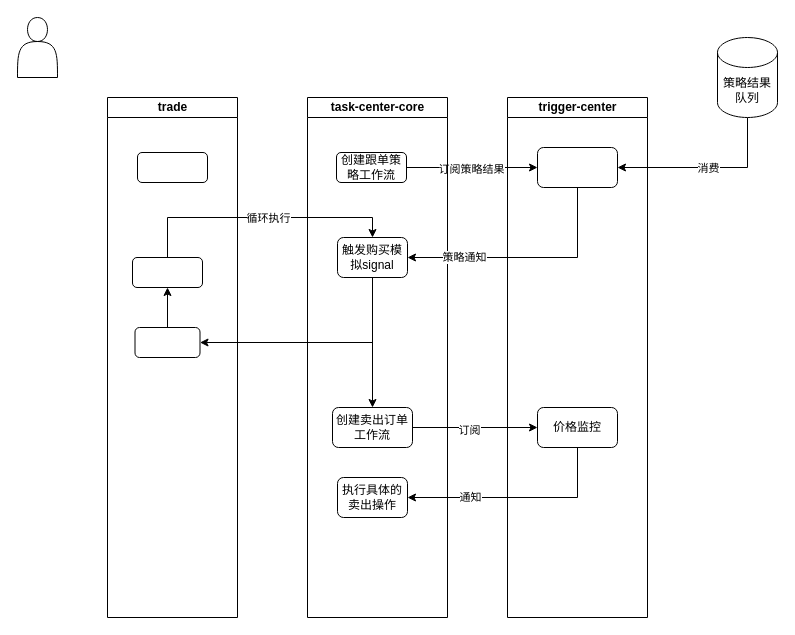
Some shapes in this 795 by 635 pixel diagram are drawn without their labels. The shapes that lost their labels are listed below. From the top down, each one's centre as x and y in pixels, then its label:
pixel 172 167: 创建模拟器/自动化交易
pixel 577 167: 判断条件
pixel 167 272: 创建模拟买订单
pixel 167 342: 更新模拟器状态
